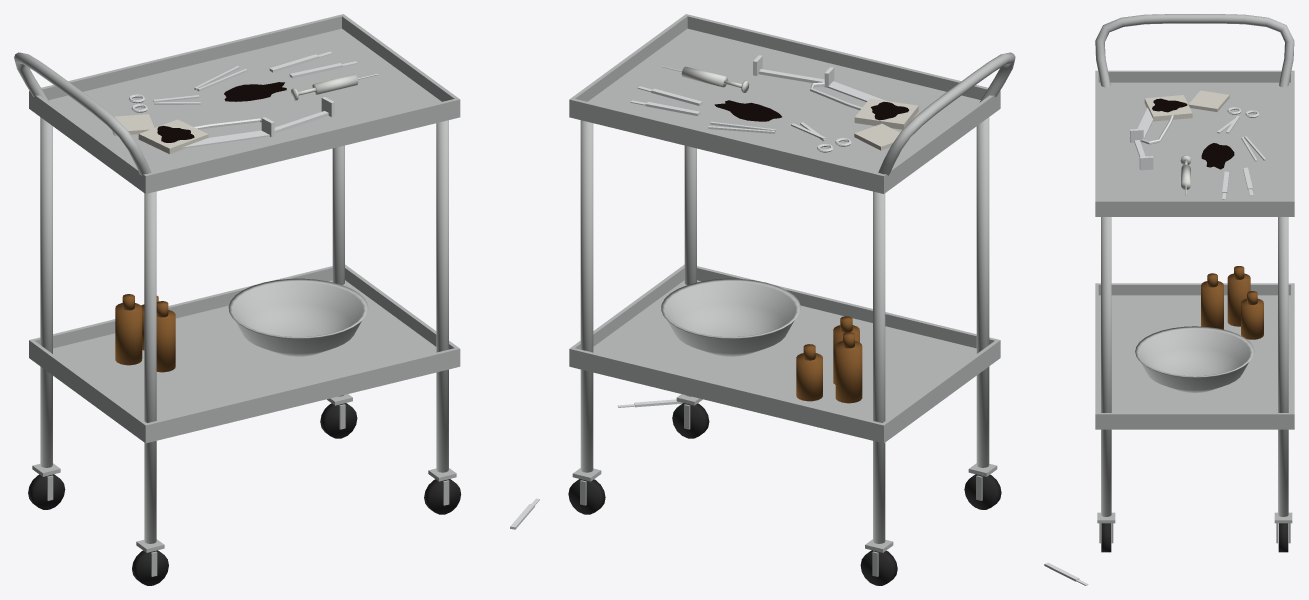
Rendered from instrument_trolley.glb.
3 renders of one model, left to right at view 1: azimuth 30°, elevation 25°; view 2: azimuth 150°, elevation 25°; view 3: azimuth 270°, elevation 25°, orthographic. The views are drawn at different scales.
Visible parts, largest first — view 1: TrolleyFrame, TrolleyRoundSteel, Loose_Bowl, TrolleyCastors, Loose_Bottle_1, Loose_Gauze, Loose_Bottle_3, Loose_BoneSaw, TrolleyStain, Loose_Retractor, Loose_Syringe; view 2: TrolleyFrame, TrolleyRoundSteel, Loose_Bowl, TrolleyCastors, Loose_Bottle_1, Loose_Gauze, Loose_Bottle_2, TrolleyStain, Loose_Retractor, Loose_BoneSaw, Loose_Syringe, Loose_Bottle_3; view 3: TrolleyFrame, TrolleyRoundSteel, Loose_Bowl, Loose_Gauze, Loose_Bottle_3, Loose_Bottle_1, Loose_Bottle_2, TrolleyCastors, TrolleyStain, Loose_Retractor, Loose_BoneSaw, GauzeStain.
Part boxes in pixels (<box>): TrolleyFrame: <box>29,14,460,576</box>; TrolleyRoundSteel: <box>14,52,448,543</box>; Loose_Bowl: <box>228,278,368,356</box>; TrolleyCastors: <box>28,403,461,585</box>; Loose_Bottle_1: <box>115,294,142,365</box>; Loose_Gauze: <box>112,114,208,154</box>; Loose_Bottle_3: <box>156,301,175,372</box>; Loose_BoneSaw: <box>182,118,269,148</box>; TrolleyStain: <box>224,82,286,101</box>; Loose_Retractor: <box>261,97,334,137</box>; Loose_Syringe: <box>290,74,358,100</box>; TrolleyFrame: <box>569,14,1000,576</box>; TrolleyRoundSteel: <box>580,52,1015,543</box>; Loose_Bowl: <box>661,278,800,356</box>; TrolleyCastors: <box>568,403,1001,585</box>; Loose_Bottle_1: <box>835,332,862,403</box>; Loose_Gauze: <box>854,98,918,150</box>; Loose_Bottle_2: <box>796,344,822,401</box>; TrolleyStain: <box>714,100,781,121</box>; Loose_Retractor: <box>753,55,834,87</box>; Loose_BoneSaw: <box>810,81,885,110</box>; Loose_Syringe: <box>681,66,749,92</box>; Loose_Bottle_3: <box>833,316,859,384</box>; TrolleyFrame: <box>1095,70,1294,543</box>; TrolleyRoundSteel: <box>1095,14,1294,516</box>; Loose_Bowl: <box>1135,326,1254,392</box>; Loose_Gauze: <box>1144,90,1229,121</box>; Loose_Bottle_3: <box>1201,273,1223,329</box>; Loose_Bottle_1: <box>1227,266,1250,326</box>; Loose_Bottle_2: <box>1241,291,1263,339</box>; TrolleyCastors: <box>1101,523,1288,552</box>; TrolleyStain: <box>1201,143,1234,169</box>; Loose_Retractor: <box>1130,128,1153,170</box>; Loose_BoneSaw: <box>1137,108,1173,144</box>; GauzeStain: <box>1152,98,1187,112</box>.
Bounding box in the file's own units: 0.9201 × 1 × 0.5646.
